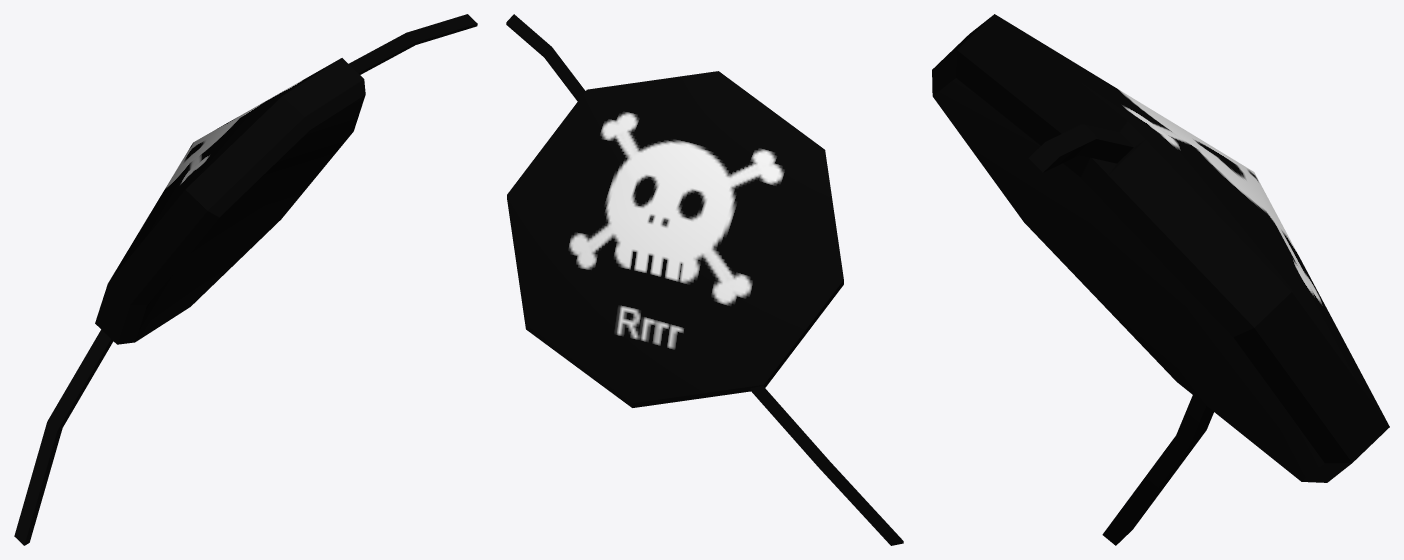
Rendered from eye patch.fbx.
3 views of the same model, side by side, from view 1: azimuth 30°, elevation 25°; view 2: azimuth 150°, elevation 25°; view 3: azimuth 270°, elevation 25° (orthographic). The views are drawn at different scales.
Visible parts, largest first — view 1: Eye_patch; view 2: Eye_patch; view 3: Eye_patch.
Boxes of the visible parts, box(x1,y1,x2,y2) form: Eye_patch: box(14, 14, 477, 545); Eye_patch: box(506, 14, 903, 545); Eye_patch: box(932, 14, 1389, 545).
Bounding box in the file's own units: 0.5216 × 0.5004 × 0.2774.
Materials: 1 (1 with a texture image).
